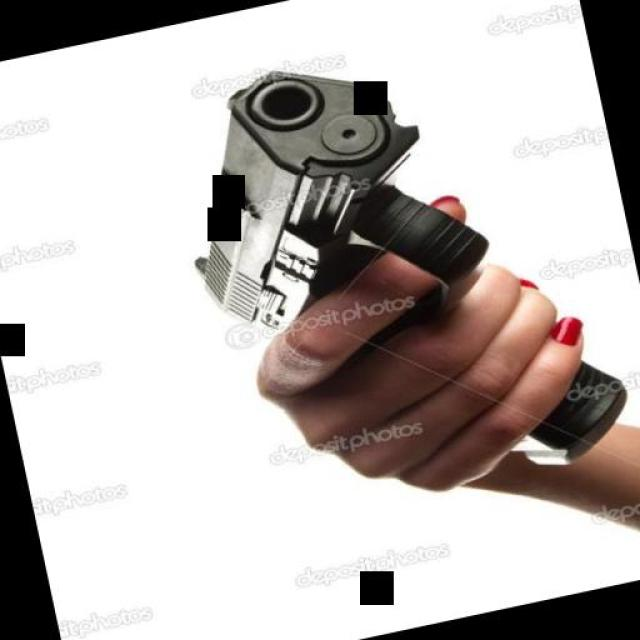gun: (144, 14, 635, 542)
